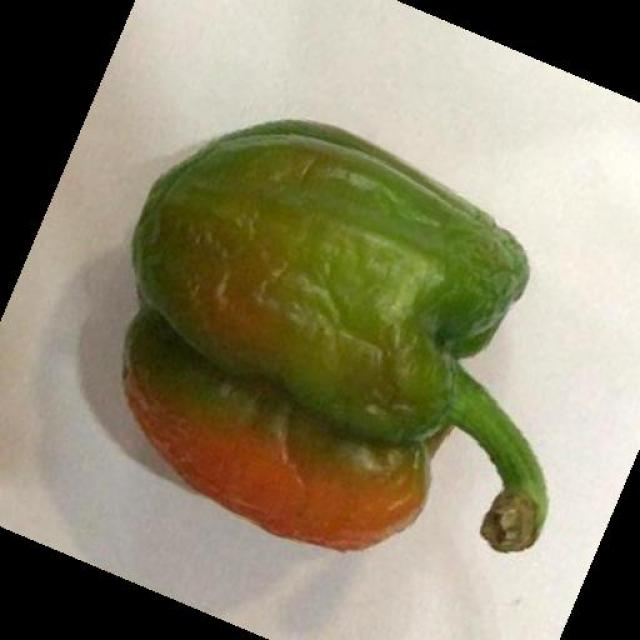Stale_Capsicum: (103, 88, 499, 565)
